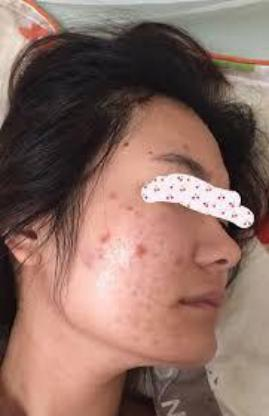Papules: (127, 240, 156, 265), (97, 233, 117, 247)
acne scar: (103, 189, 122, 203), (171, 254, 187, 270)
